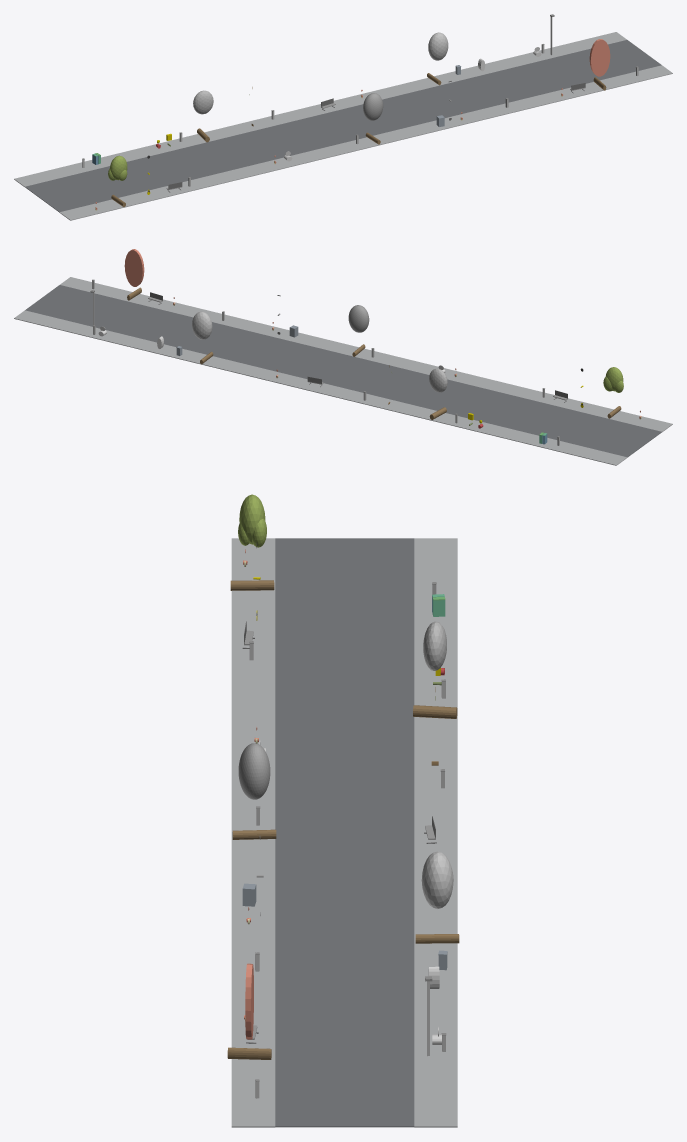
The picture shows the model from 3 angles, top to bottom: view 1: azimuth 30°, elevation 25°; view 2: azimuth 150°, elevation 25°; view 3: azimuth 270°, elevation 25°; orthographic projection. The views are drawn at different scales.
Parts seen in each view (by area): view 1: road_slab, sidewalk_left, sidewalk_right, inst_0016, inst_0015, inst_0014, inst_0013, inst_0012; view 2: road_slab, sidewalk_right, sidewalk_left, inst_0016, inst_0014, inst_0015, inst_0012, inst_0013; view 3: road_slab, sidewalk_left, sidewalk_right, inst_0015, inst_0014, inst_0012, inst_0013, inst_0016.
Part boxes in pixels (box(x1,y1,x2,y2)): road_slab: box(25, 40, 661, 212); sidewalk_left: box(59, 65, 672, 220); sidewalk_right: box(14, 32, 626, 186); inst_0016: box(589, 39, 610, 90); inst_0015: box(427, 32, 448, 85); inst_0014: box(363, 93, 383, 144); inst_0013: box(193, 90, 213, 142); inst_0012: box(108, 155, 127, 207); road_slab: box(25, 285, 661, 457); sidewalk_right: box(14, 310, 627, 465); sidewalk_left: box(60, 277, 672, 432); inst_0016: box(124, 249, 144, 300); inst_0014: box(348, 305, 369, 356); inst_0015: box(192, 311, 213, 364); inst_0012: box(603, 367, 623, 418); inst_0013: box(429, 368, 447, 419); road_slab: box(275, 538, 414, 1127); sidewalk_left: box(231, 538, 275, 1127); sidewalk_right: box(414, 538, 457, 1127); inst_0015: box(415, 851, 459, 943); inst_0014: box(232, 743, 276, 839); inst_0012: box(230, 494, 274, 590); inst_0013: box(413, 621, 457, 718); inst_0016: box(227, 963, 271, 1059).
Size of the model in its own units: 80 by 6.08 by 13.31.
